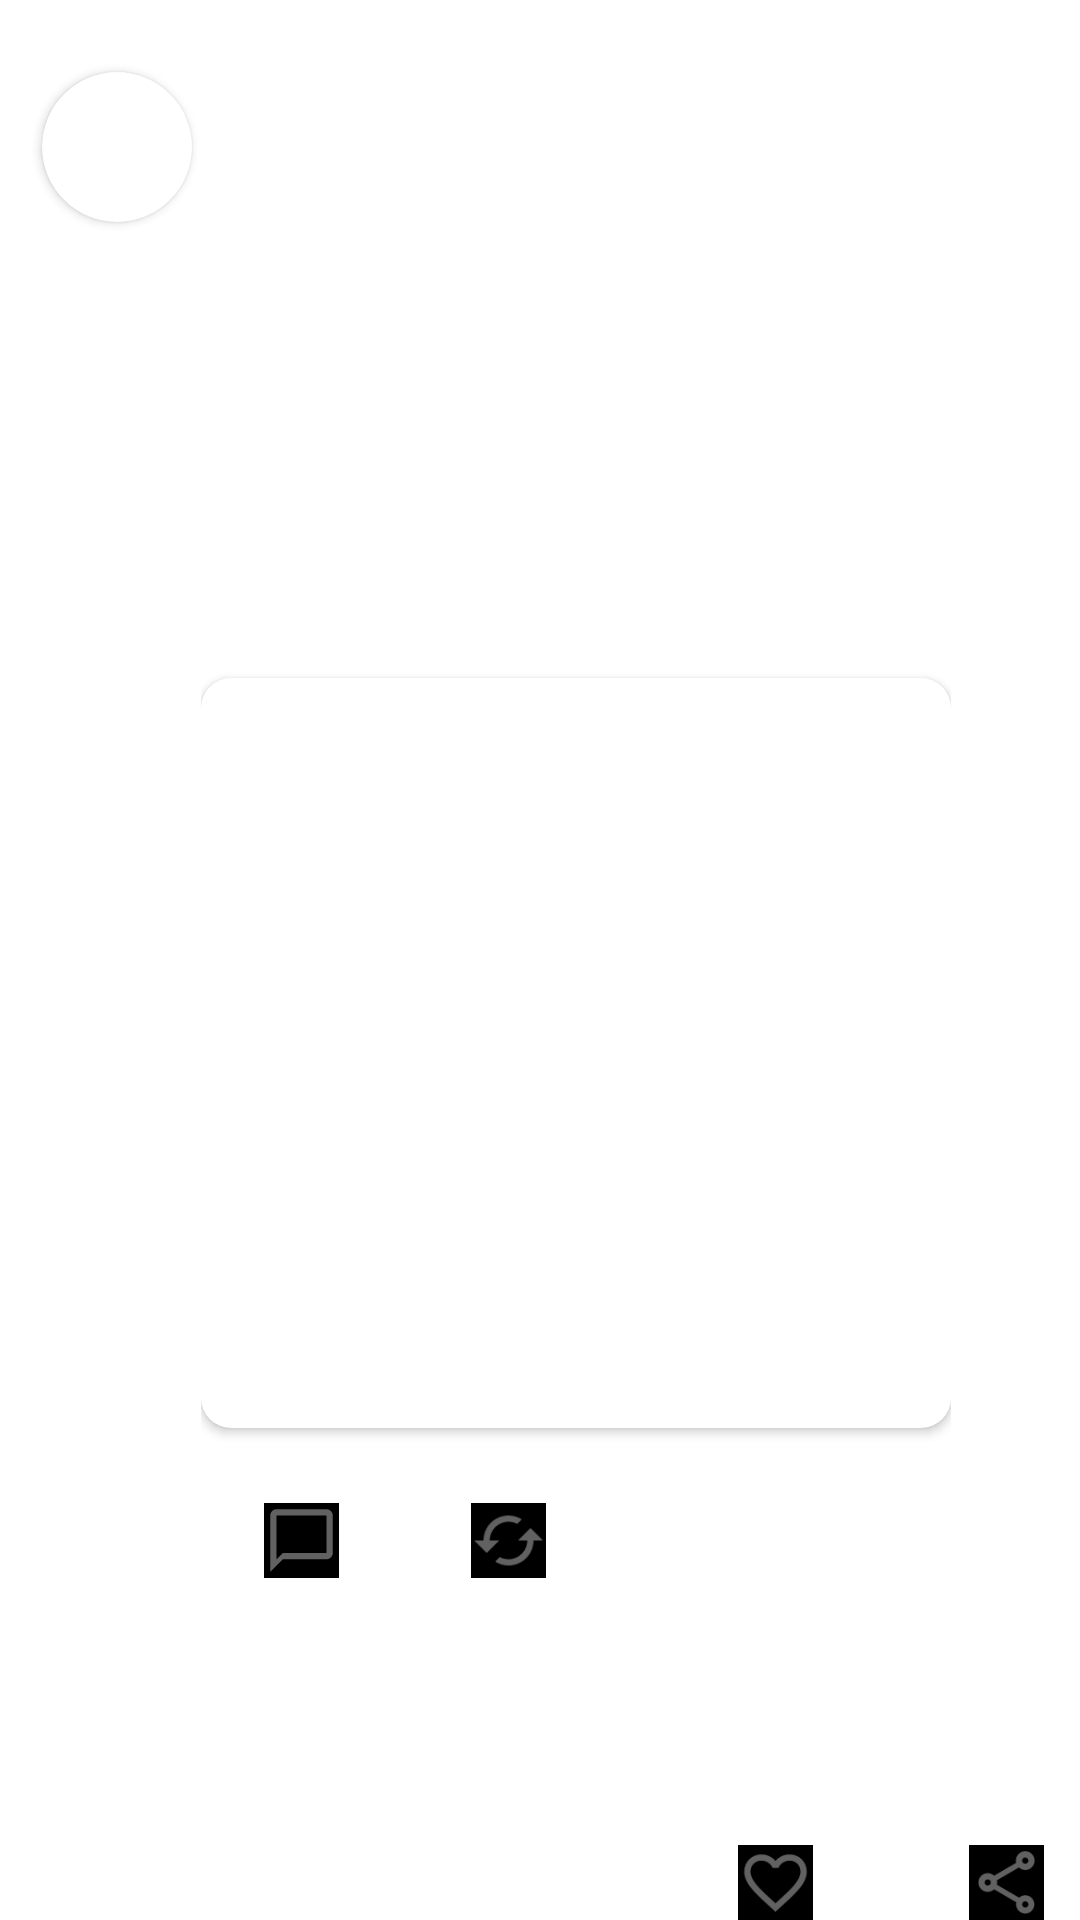

Where icons sit on this 1080px×1920px app screen, as detection(x1, y1, x2, y2):
cached: detection(471, 1503, 546, 1578)
chat bubble: detection(264, 1503, 339, 1578)
favorite border: detection(738, 1845, 813, 1920)
share: detection(969, 1845, 1044, 1920)
